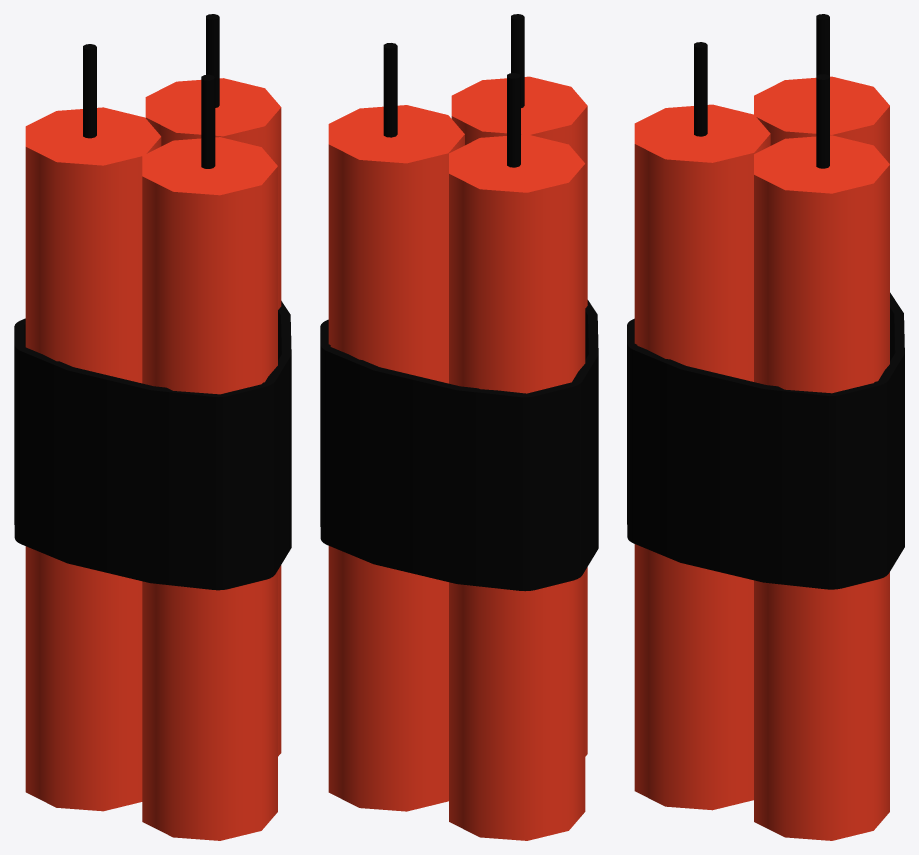
File: dynamite.fbx
3 views of the same model, side by side, from view 1: azimuth 30°, elevation 25°; view 2: azimuth 150°, elevation 25°; view 3: azimuth 270°, elevation 25° (orthographic).
Visible parts, largest first — view 1: Cylinder; view 2: Cylinder; view 3: Cylinder.
Boxes of the visible parts, x1,y1,x2,y2 form: Cylinder: (14,14,291,840); Cylinder: (320,14,598,840); Cylinder: (627,14,904,840).
Size of the model in its own units: 36.99 by 102 by 34.86.
